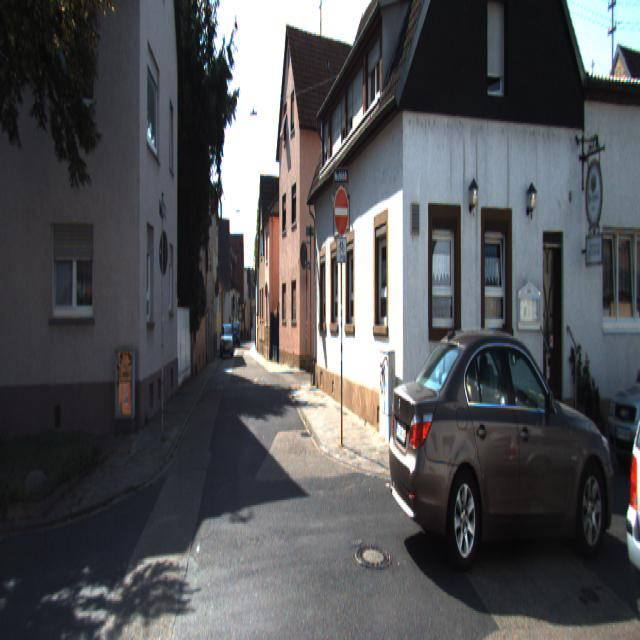Car: (388, 324, 622, 589)
